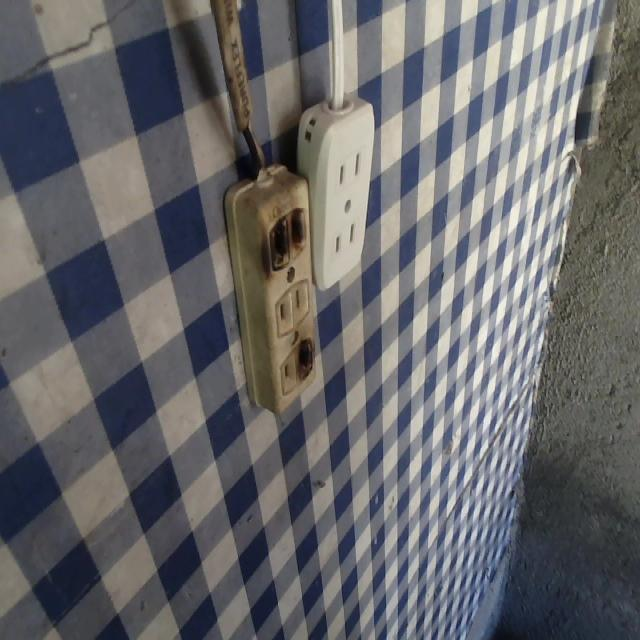-: (257, 204, 310, 272), (293, 335, 320, 380)
